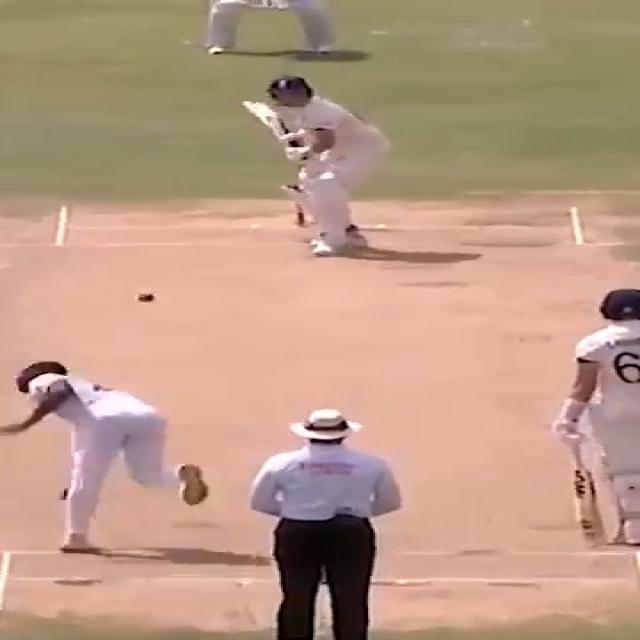Cricket ball: (136, 290, 158, 303)
